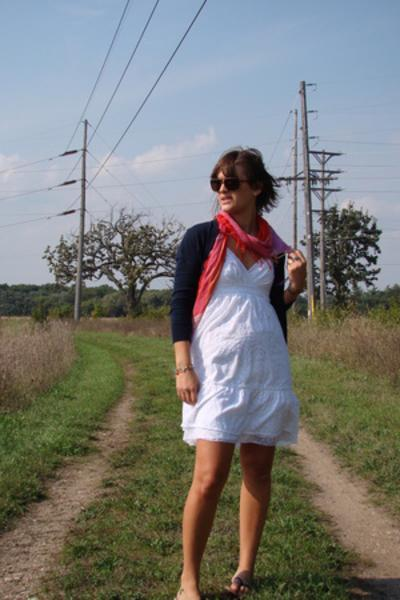dress: (181, 252, 303, 448)
jacket: (168, 220, 292, 343)
shoe: (228, 572, 259, 599)
sunglass: (210, 167, 247, 198)
